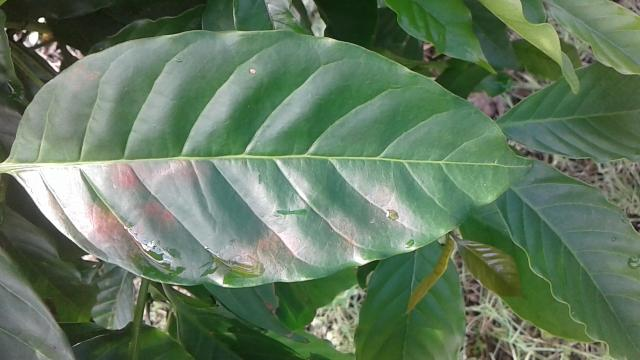red_spider_mite: (10, 33, 535, 287)
